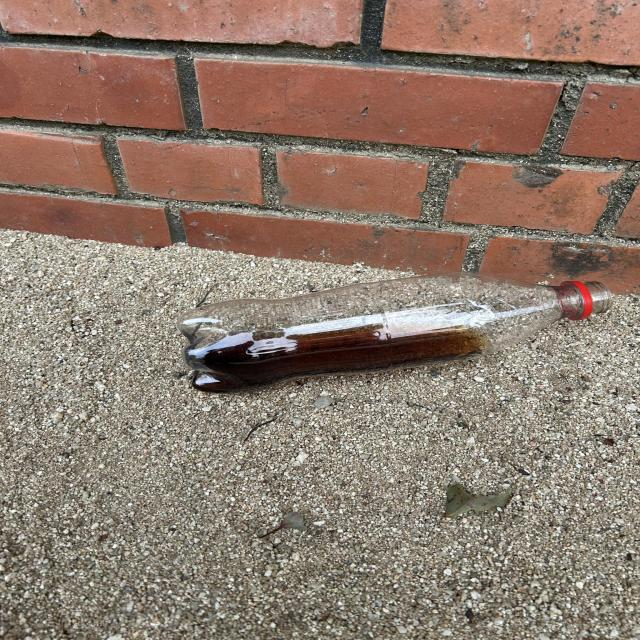low: (178, 273, 610, 392)
